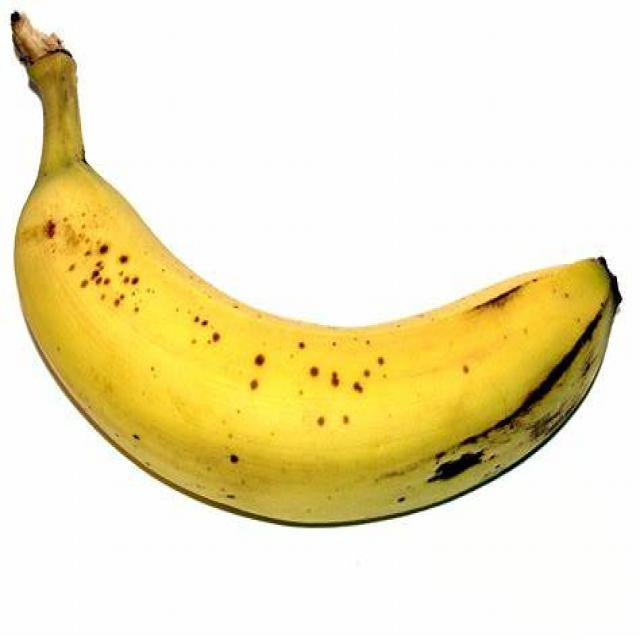Banana: (11, 11, 620, 528)
